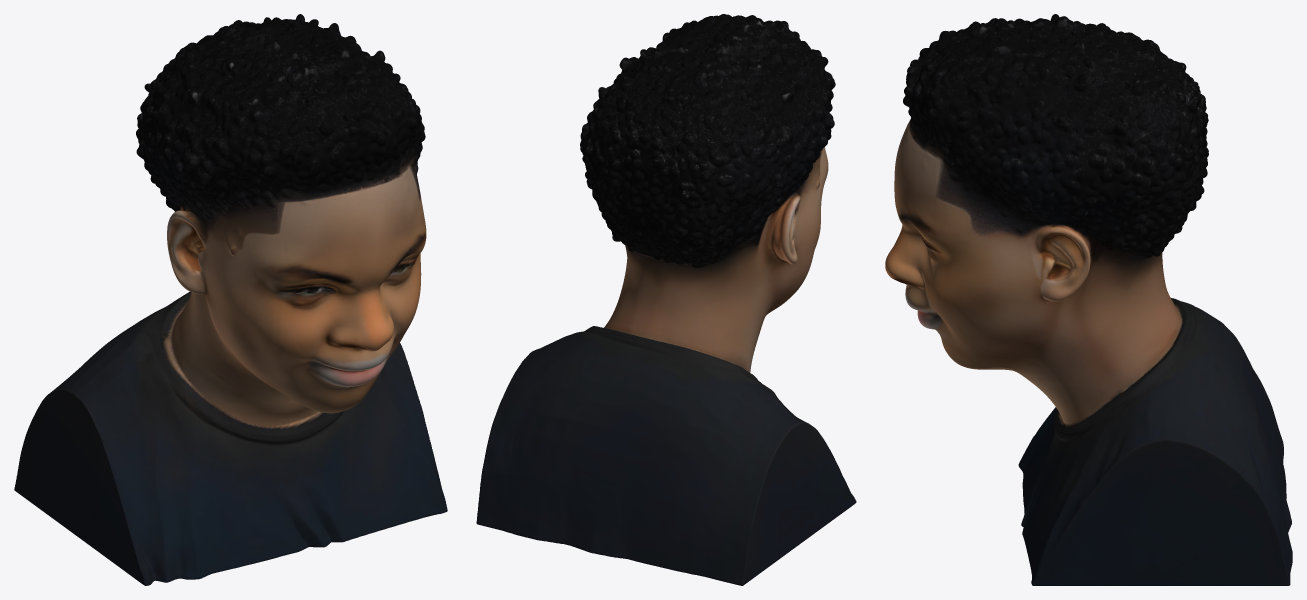
The model's file is Modèle3d.glb.
3 views of the same model, side by side, from view 1: azimuth 30°, elevation 25°; view 2: azimuth 150°, elevation 25°; view 3: azimuth 270°, elevation 25° (orthographic). The views are drawn at different scales.
Visible parts, largest first — view 1: tripo_node_44b2fd11-b119-4877-8a9c-c913aa0559bb; view 2: tripo_node_44b2fd11-b119-4877-8a9c-c913aa0559bb; view 3: tripo_node_44b2fd11-b119-4877-8a9c-c913aa0559bb.
Boxes of the visible parts, left/top/right/bottom form: tripo_node_44b2fd11-b119-4877-8a9c-c913aa0559bb: left=14, top=14, right=447, bottom=585; tripo_node_44b2fd11-b119-4877-8a9c-c913aa0559bb: left=476, top=14, right=856, bottom=585; tripo_node_44b2fd11-b119-4877-8a9c-c913aa0559bb: left=885, top=14, right=1292, bottom=585.
Size of the model in its own units: 0.6235 by 1 by 0.752.
1 material, 1 textured.
